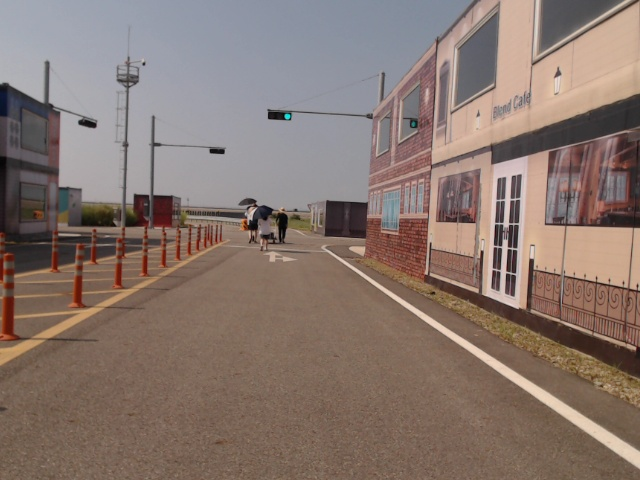green_3: (267, 111, 292, 121)
